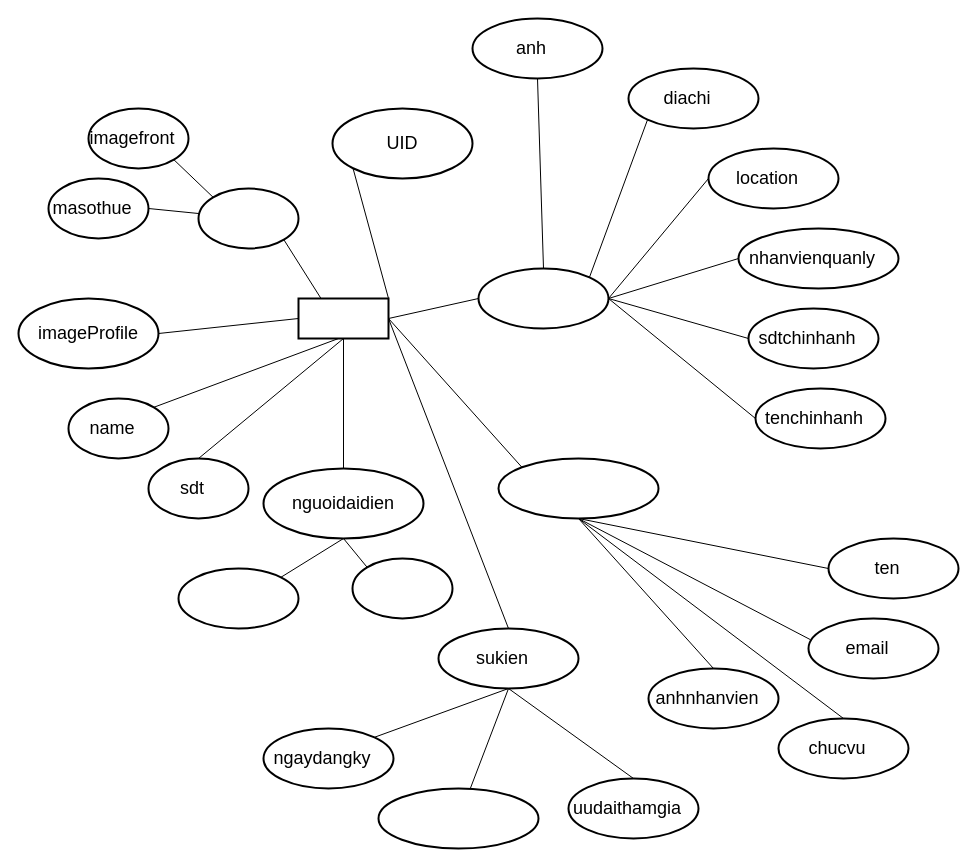
Some shapes in this 976 by 866 pixel diagram are drawn without their labels. Here are the shapes that lost their labels. From the top down, the centre of each, then its label:
At point 248,218: "kycInfo".
At point 343,318: "merchant".
At point 543,298: "chinhnhanh".
At point 578,488: "nhansu".
At point 238,598: "fullname".
At point 402,588: "gioitinh".
At point 458,818: "banner_sukien".
